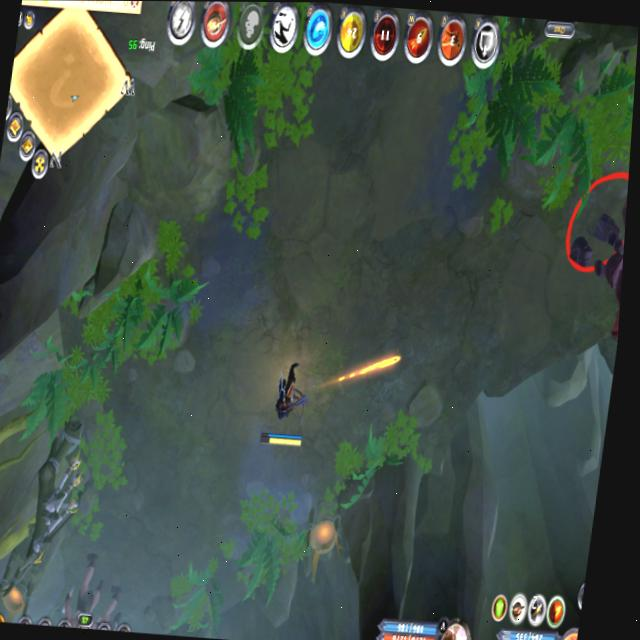ore: (553, 169, 629, 333), (58, 549, 111, 630), (99, 587, 137, 632)
red: (252, 358, 322, 456)
